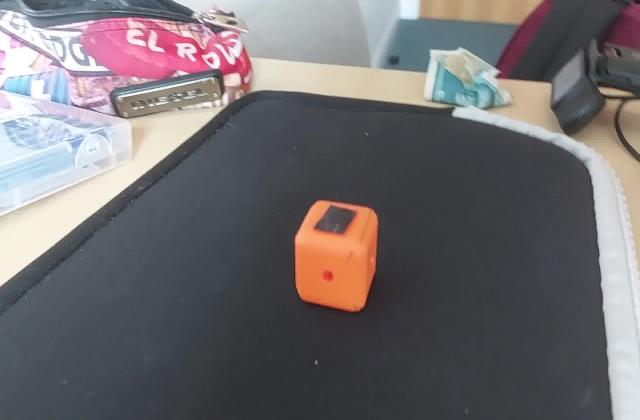cube: (290, 199, 381, 317)
